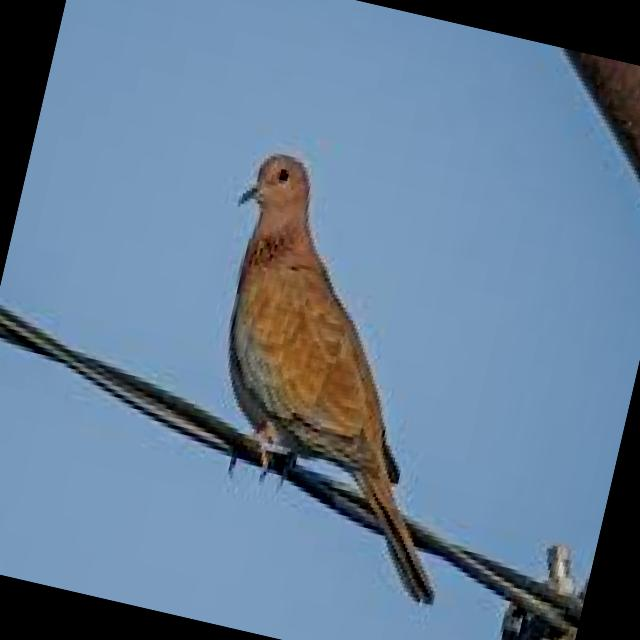bird: (152, 134, 534, 616)
